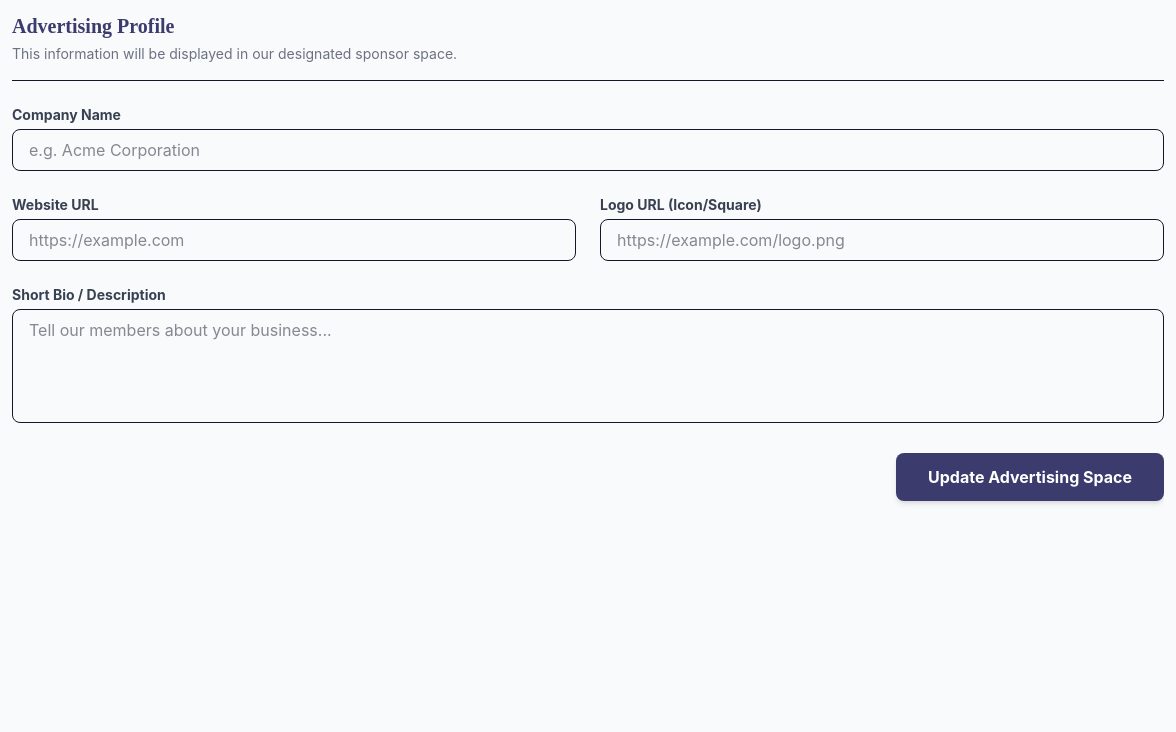
Test: SponsorProfileForm › submits successfully
Type "New Company" into the field with placeholder "e.g. Acme Corporation" at x=588, y=150, box [12,129,1164,171]
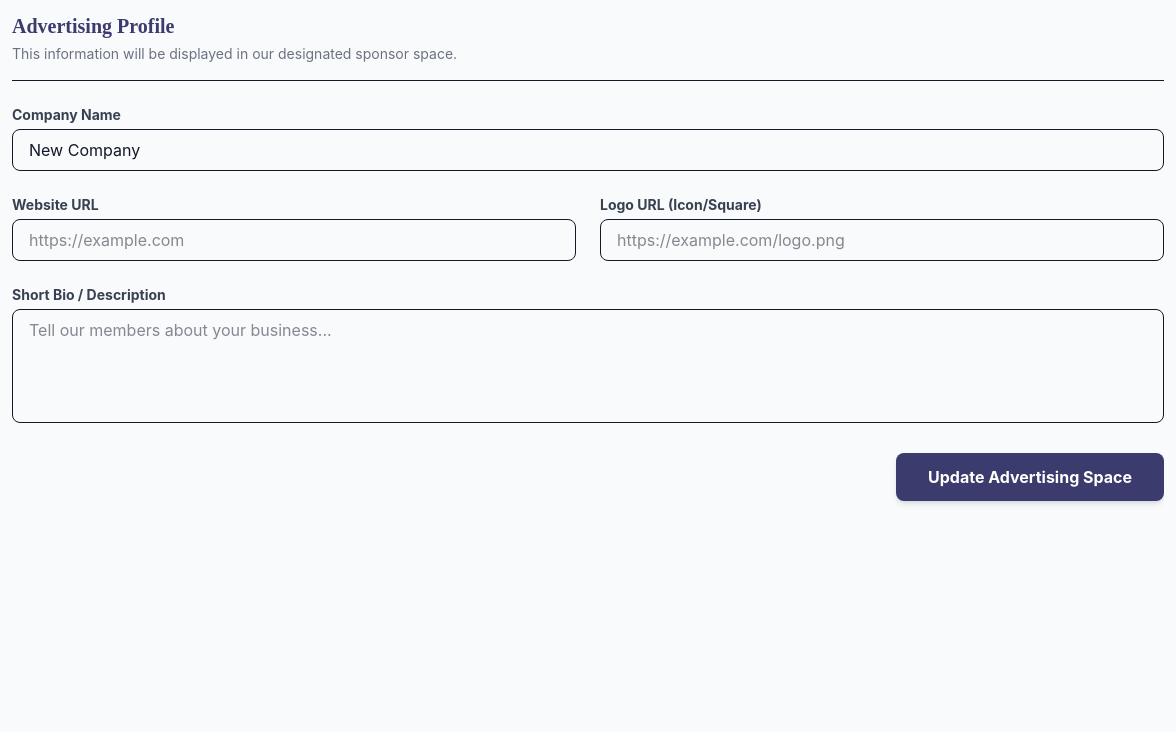
Click the button "Update Advertising Space" at x=1030, y=477, box [896,453,1164,501]
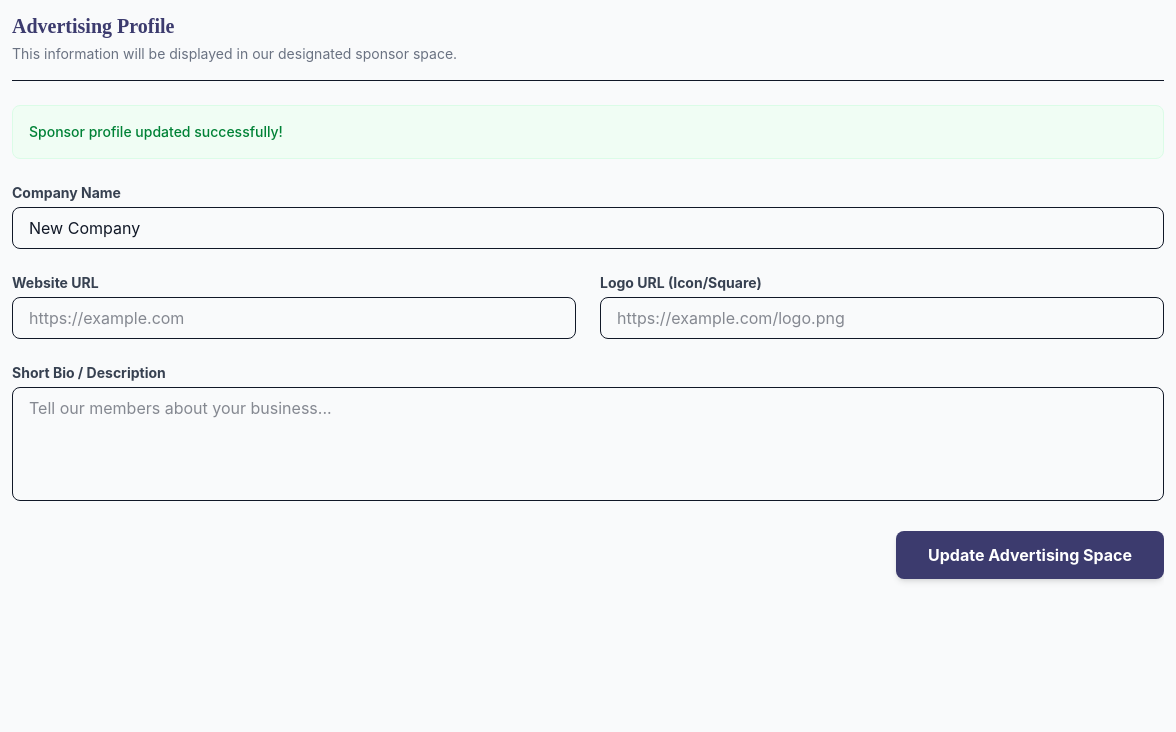
Check: the button named "Saving..." is shown, box [896,531,1164,579]
Check: the text "Sponsor profile updated successfully!" is shown, box [12,105,1164,159]
